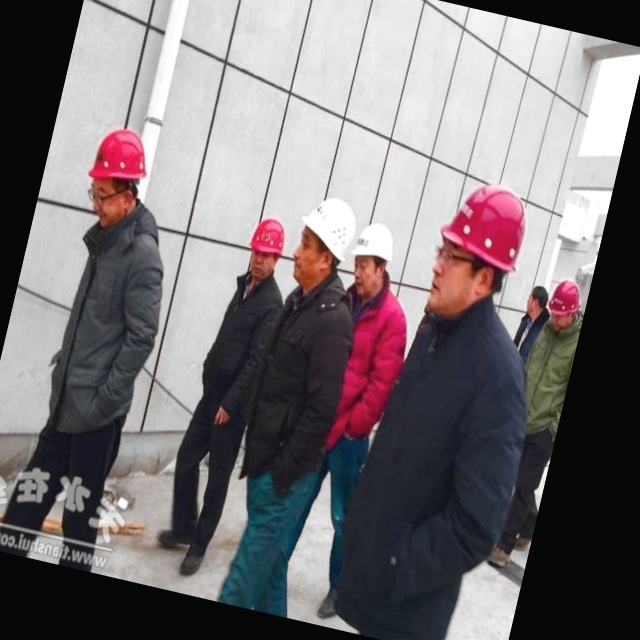Con_Casco: (416, 174, 534, 331), (78, 123, 155, 225)
